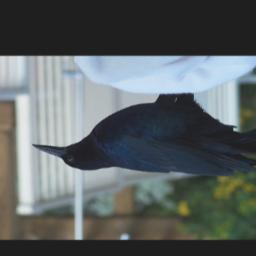Crow: (31, 94, 256, 177)
